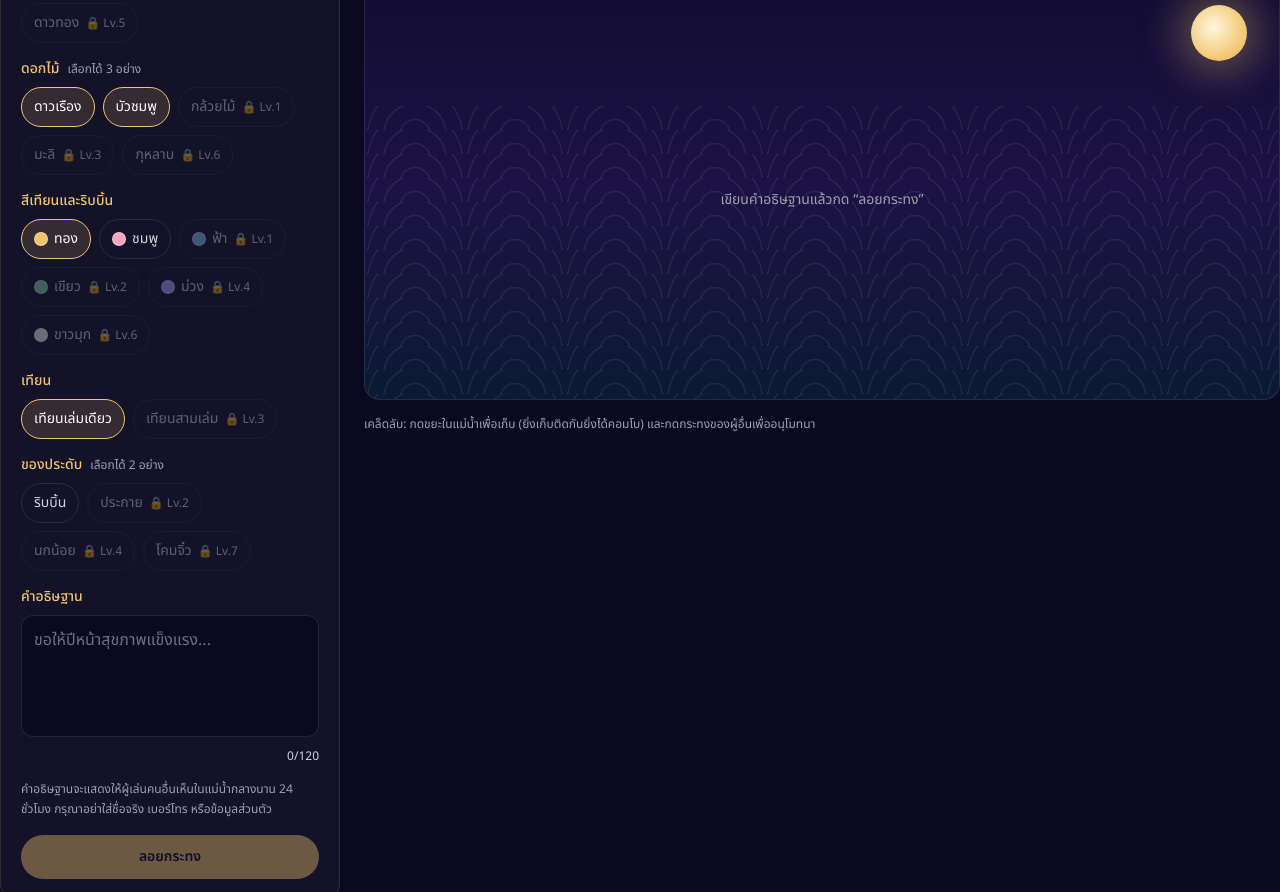
RiverFloat แม่น้ำกลาง › ต่อเซิร์ฟเวอร์ล้มเหลว: แจ้งเตือนแต่ยังลอยในเครื่องได้
(page scrolled)
Type "ลอยในเครื่อง" into the text box labelled "คำอธิษฐาน" at point(170, 676), box [21,615,319,737]
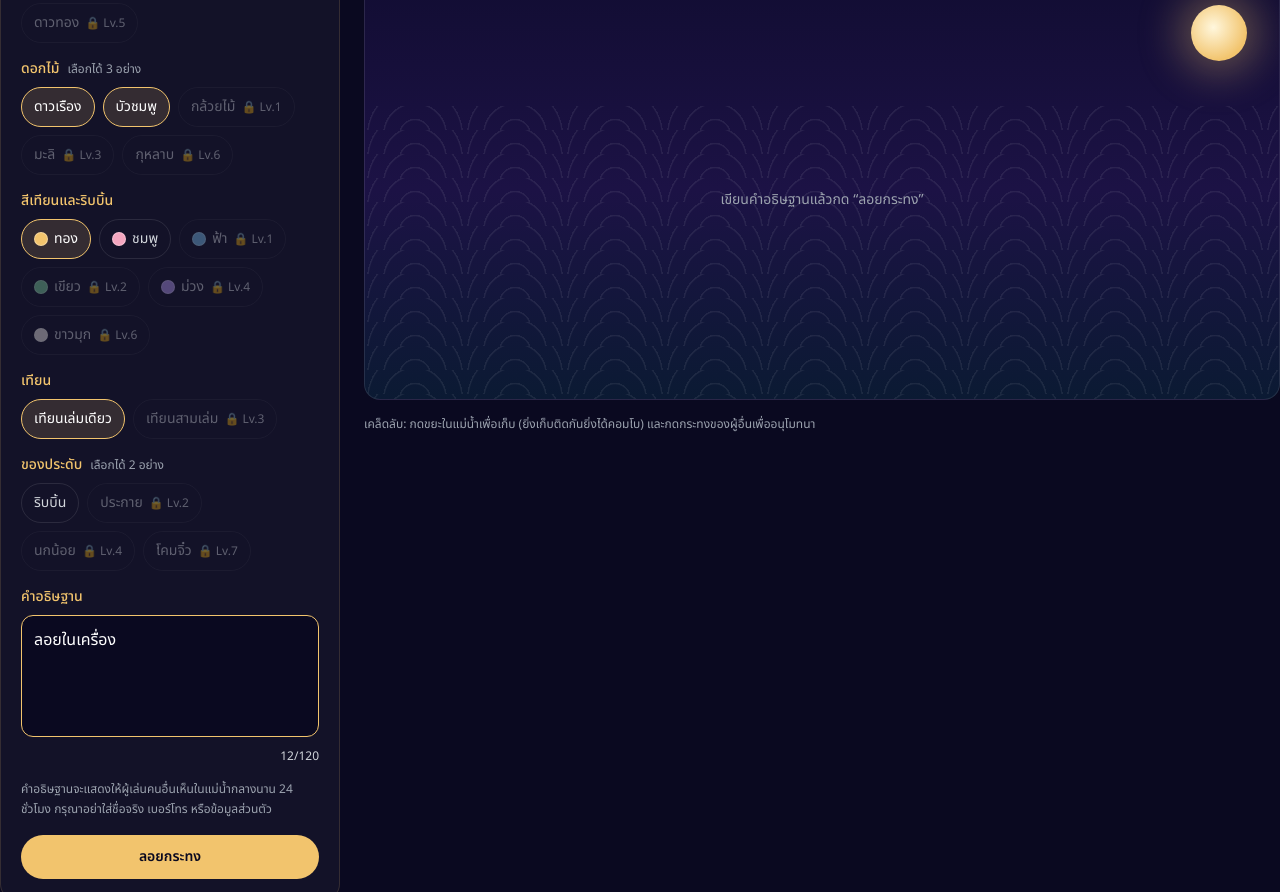
Click the button "ลอยกระทง" at point(170, 857), box [21,835,319,879]
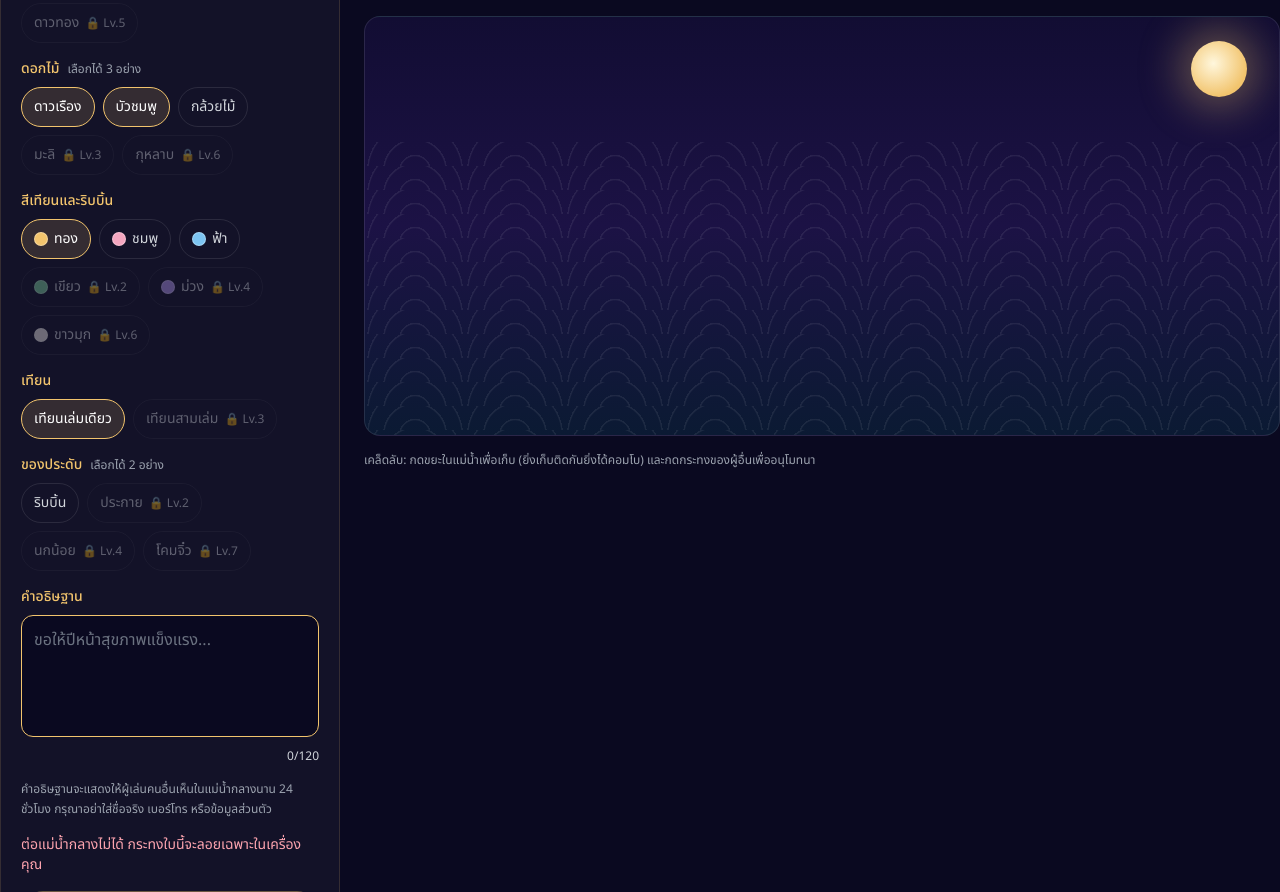
Expected: the message shows "เฉพาะในเครื่อง", [21,834,301,875]
